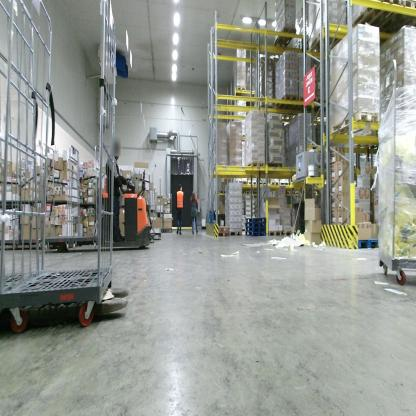pallet: (327, 108, 380, 140), (349, 1, 402, 31), (380, 1, 415, 39), (307, 29, 346, 55), (273, 23, 297, 49), (354, 234, 385, 252), (293, 97, 316, 115), (277, 93, 298, 111), (314, 98, 331, 113), (245, 230, 267, 239), (268, 159, 285, 170), (245, 216, 267, 224), (242, 162, 266, 169), (234, 85, 247, 97), (245, 220, 267, 227), (245, 226, 267, 233), (282, 229, 297, 239), (228, 229, 243, 237), (267, 229, 282, 237), (236, 178, 248, 187), (219, 228, 229, 237), (257, 180, 271, 186), (284, 189, 295, 196), (280, 181, 290, 187), (218, 189, 228, 195), (248, 180, 257, 186), (270, 181, 280, 186), (246, 190, 255, 195), (294, 190, 301, 196)
pallet_truck: (43, 162, 158, 254)
